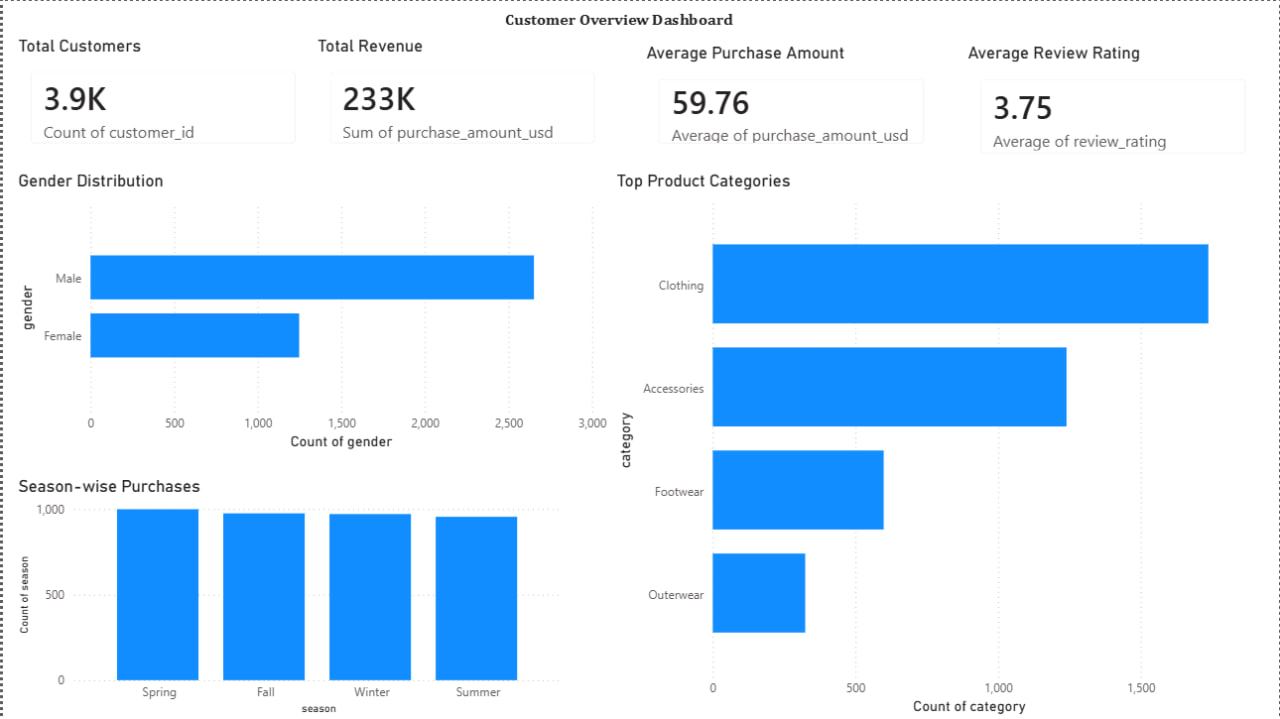

This screenshot's page, from the dashboard's own definition file:
{"tool":"powerbi","page":{"name":"Customer Overview","canvas":[1280,720],"ordinal":0},"visuals":[{"type":"cardVisual","title":"Total Customers","fields":{"Data":["CountNonNull(cleaned_customer_shopping_behavior.customer_id)"]},"box":[10,33.8,300,126.2],"z":0},{"type":"cardVisual","title":"Total Revenue","fields":{"Data":["Sum(Total Customers.purchase_amount_usd)"]},"box":[310,33.8,300,126.2],"z":1000},{"type":"cardVisual","title":"Average Purchase Amount","fields":{"Data":["Avg(Total Customers.purchase_amount_usd)"]},"box":[640,41.2,300,118.8],"z":2000},{"type":"cardVisual","title":"Average Review Rating","fields":{"Data":["Avg(Total Customers.review_rating)"]},"box":[962.5,41.2,300,128.8],"z":3000},{"type":"clusteredBarChart","title":"Gender Distribution","fields":{"Y":["CountNonNull(Total Customers.gender)"],"Category":["Total Customers.gender"]},"box":[10,170,600,284],"z":4000},{"type":"barChart","title":"Top Product Categories","fields":{"Category":["Total Customers.category"],"Y":["CountNonNull(Total Customers.category)"]},"box":[610,170,636,550],"z":5000},{"type":"columnChart","title":"Season-wise Purchases","fields":{"Category":["Total Customers.season"],"Y":["CountNonNull(Total Customers.season)"]},"box":[10,476,556,244],"z":6000},{"type":"textbox","box":[498.8,2.5,247.5,38.8],"z":7000}]}

Visuals, with their boxes in screenshot pixels (x1, y1, x2, y2), scaled from the page's 1280x720 canvas onto the 1280x719 screenshot:
"Total Customers" cardVisual: (10, 34, 310, 160)
"Total Revenue" cardVisual: (310, 34, 610, 160)
"Average Purchase Amount" cardVisual: (640, 41, 940, 160)
"Average Review Rating" cardVisual: (962, 41, 1262, 170)
"Gender Distribution" clusteredBarChart: (10, 170, 610, 453)
"Top Product Categories" barChart: (610, 170, 1246, 718)
"Season-wise Purchases" columnChart: (10, 475, 566, 718)
textbox: (499, 2, 746, 41)
